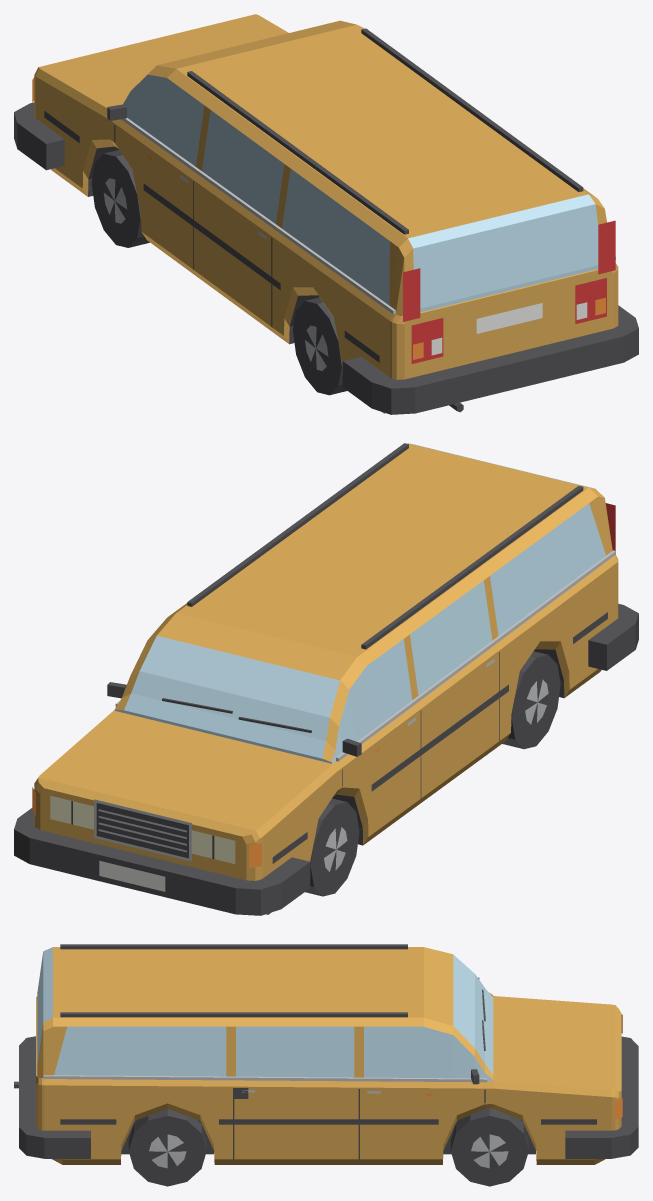
The model's file is volvo_240.glb.
The picture shows the model from 3 angles, top to bottom: view 1: azimuth 30°, elevation 25°; view 2: azimuth 150°, elevation 25°; view 3: azimuth 270°, elevation 25°; orthographic projection. The views are drawn at different scales.
Parts seen in each view (by area): view 1: body, door_FL, wheel_FL, wheel_RL; view 2: body, door_FL, wheel_RL, wheel_FL; view 3: body, door_FR, wheel_FR, wheel_RR.
Boxes of the visible parts, left/top/right/bottom form: body: left=14, top=14, right=638, bottom=414; door_FL: left=115, top=74, right=207, bottom=277; wheel_FL: left=91, top=150, right=149, bottom=247; wheel_RL: left=293, top=297, right=347, bottom=395; body: left=14, top=443, right=638, bottom=915; door_FL: left=335, top=637, right=421, bottom=845; wheel_RL: left=502, top=651, right=560, bottom=749; wheel_FL: left=305, top=798, right=359, bottom=896; body: left=14, top=944, right=638, bottom=1164; door_FR: left=359, top=1026, right=484, bottom=1164; wheel_FR: left=450, top=1108, right=528, bottom=1186; wheel_RR: left=128, top=1108, right=206, bottom=1186.
Size of the model in its own units: 2 by 1.49 by 5.12.
